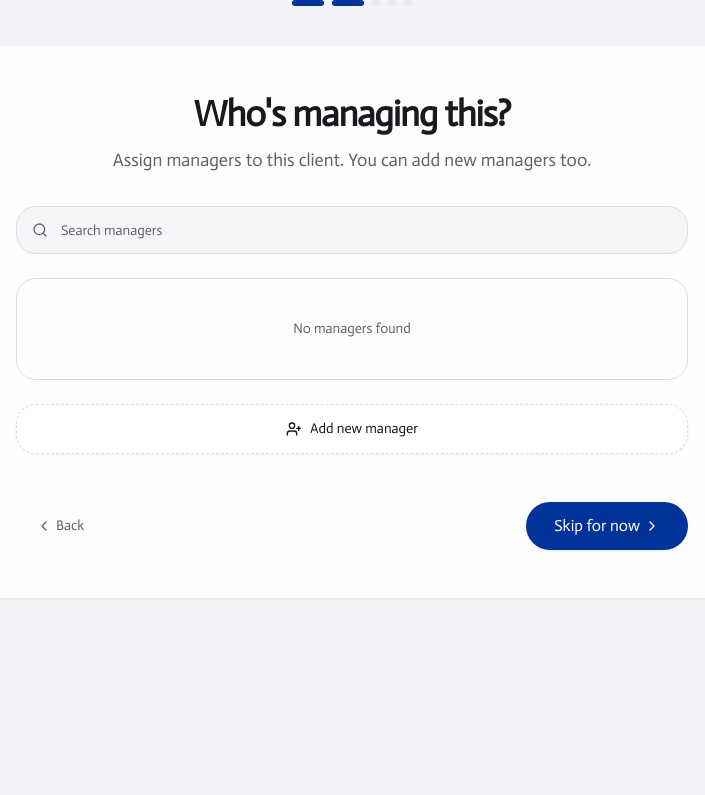
Test: Step2Managers: what the admin is shown › shows the identifier the new manager will log in with
This screenshot has width=705, height=795.
Click the button "Add new manager" at (352, 429), box [16, 404, 688, 454]
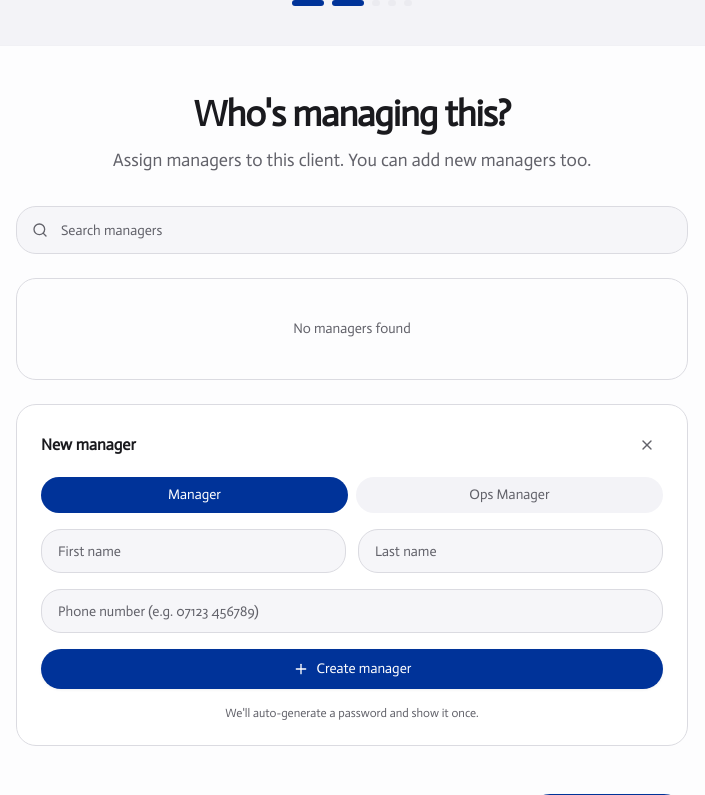
Type "Ana" into the field with placeholder "First name" at (194, 551), box [41, 529, 346, 573]
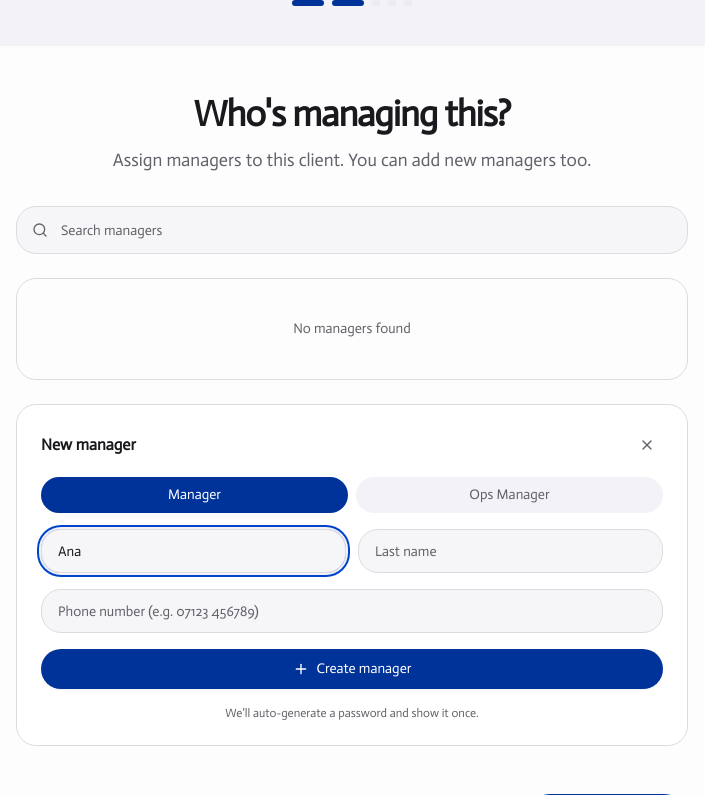
Type "Silva" into the field with placeholder "Last name" at (510, 551), box [358, 529, 663, 573]
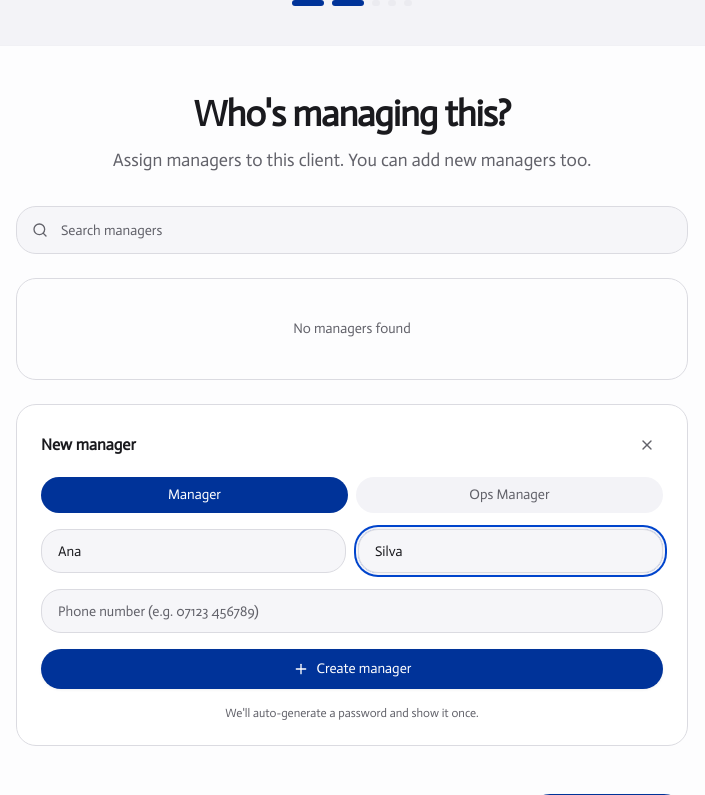
Type "07700 900321" into the field with placeholder "Phone number (e.g. 07123 456789)" at (352, 611), box [41, 589, 663, 633]
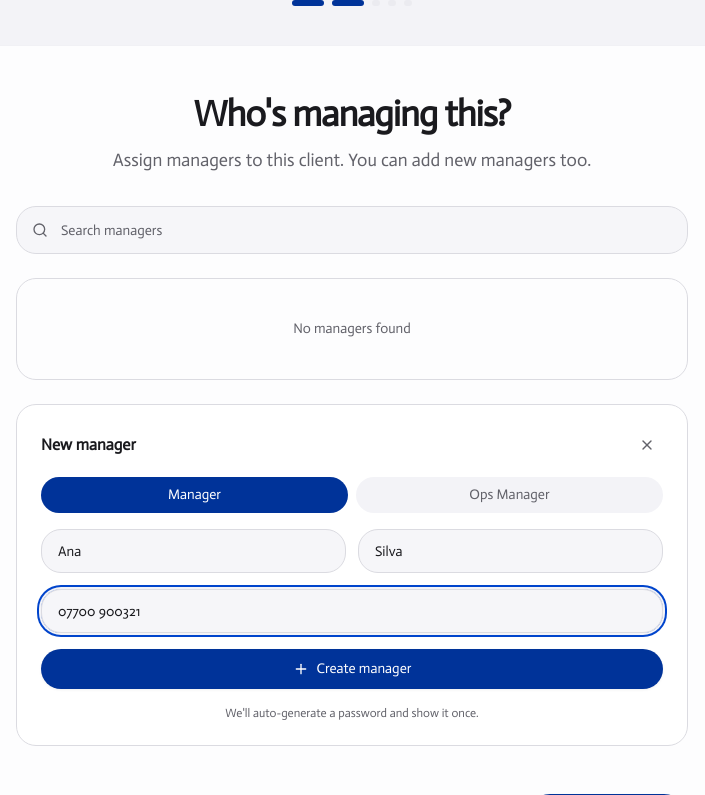
Click the button "Create manager" at (352, 669), box [41, 649, 663, 689]
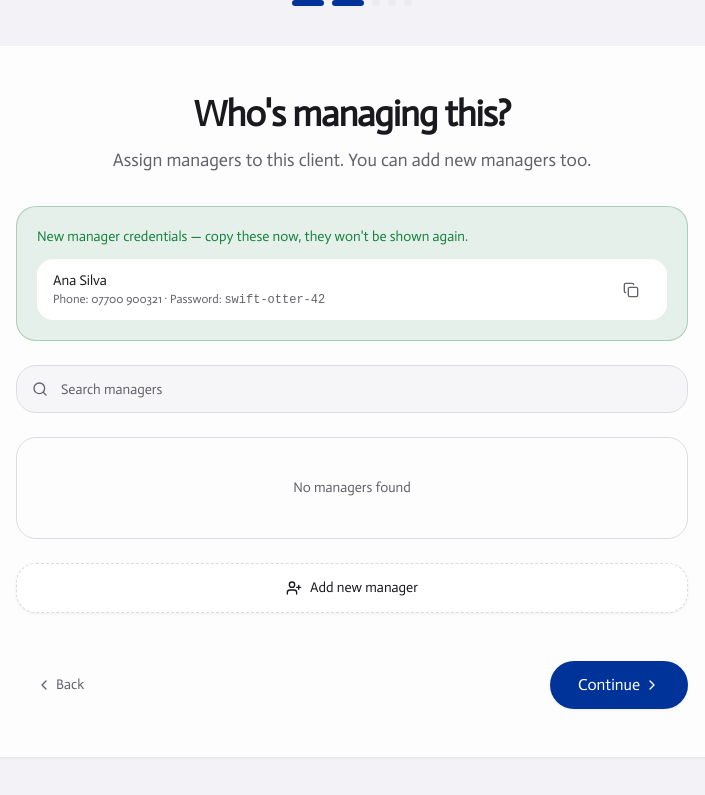
Expected: the text "swift-otter-42" is shown, [224, 293, 325, 307]
